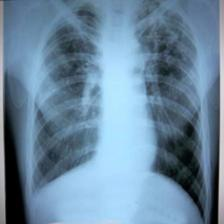tuberculosis: (24, 1, 210, 224)
